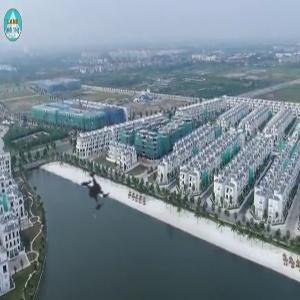drone: (58, 154, 133, 229)
